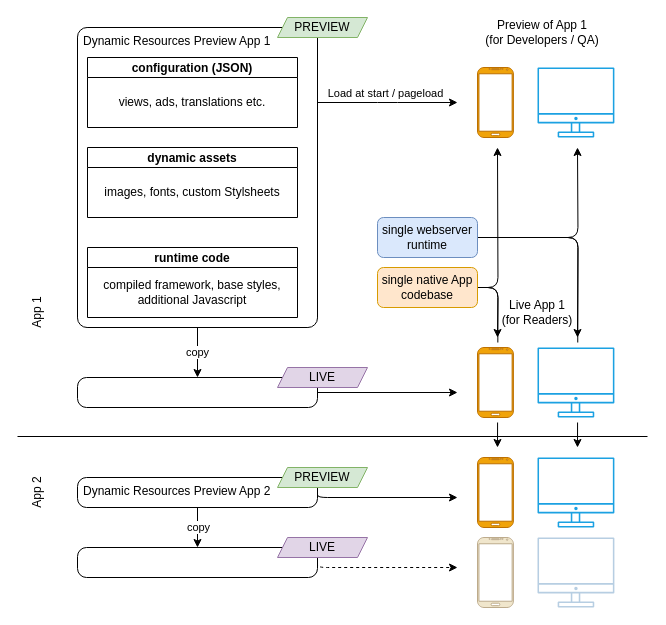
This 666x625 diagram has some shape labels left out. Here are the shapes that lost their labels. From the top down, the centre of each, then its label:
At (x=197, y=392): "Dynamic Resources Live App 1".
At (x=197, y=562): "Dynamic Resources Live App 2".
